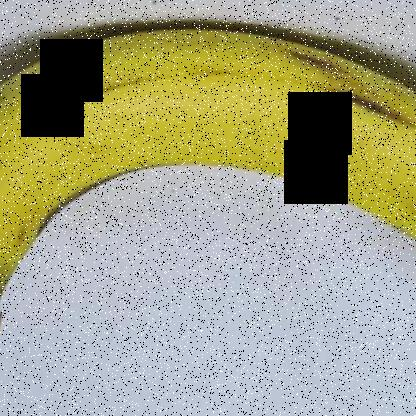freshripe: (1, 5, 415, 374)
